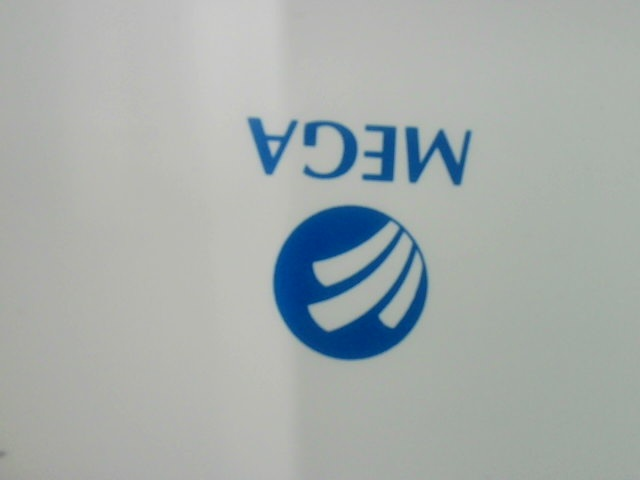AM_ZTEMEGA: (224, 104, 498, 369)
